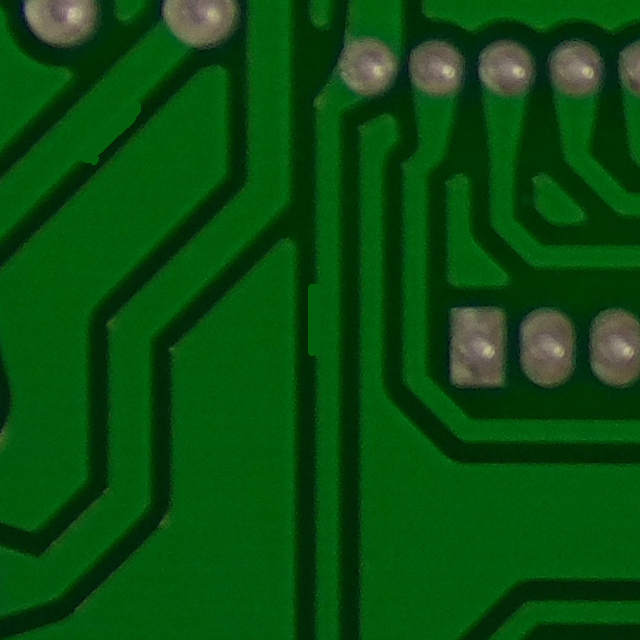spur: (58, 84, 156, 170), (294, 265, 346, 376)
